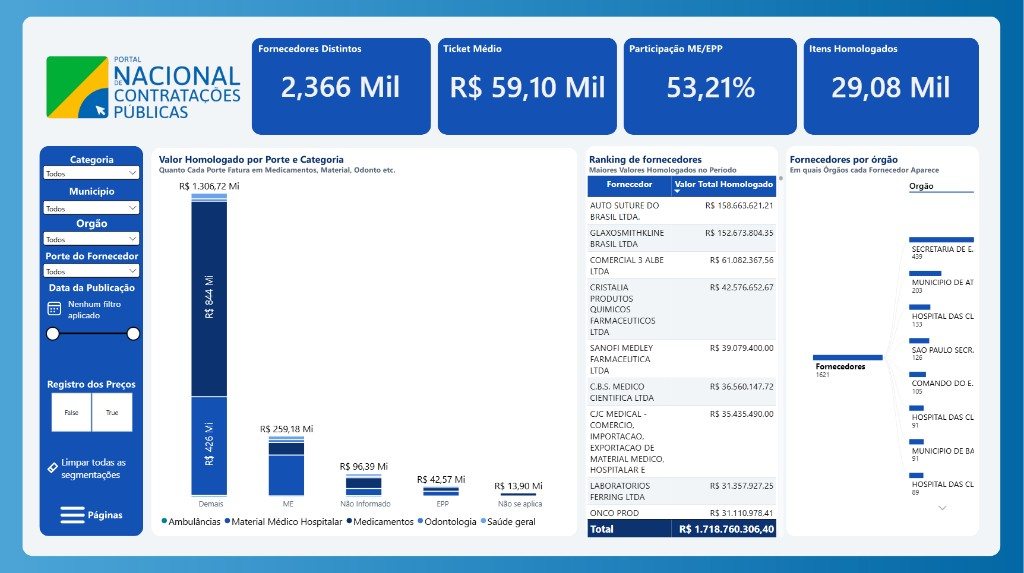

What the dashboard file says about the page in this screenshot:
{"tool":"powerbi","page":{"name":"Mercado e concorrência","canvas":[1920,1080],"ordinal":1},"visuals":[{"type":"tableEx","fields":{"Values":["pncp vw_analitica.fornecedor","Sum(pncp vw_analitica.valor_total_homologado)"]},"box":[1085.1,315.6,398.5,706.9],"z":0},{"type":"columnChart","fields":{"Category":["pncp vw_analitica.porte_fornecedor"],"Series":["pncp vw_analitica.Categoria Label"],"Y":["Medidas.Valor Homologado"]},"box":[287.5,300,798.3,707.7],"z":1000},{"type":"decompositionTreeVisual","fields":{"Analyze":["Medidas.Fornecedores Distintos"],"ExplainBy":["pncp vw_analitica.orgao"]},"box":[1483.6,315.6,357.8,692.4],"z":2000},{"type":"cardVisual","fields":{"Data":["Medidas.Ticket Médio"]},"box":[822.5,70,336.7,180.9],"z":3000},{"type":"cardVisual","fields":{"Data":["Medidas.% ME EPP"]},"box":[1172.4,70,322.2,180.9],"z":4000},{"type":"cardVisual","fields":{"Data":["CountNonNull(pncp vw_analitica.numero_item)"]},"box":[1509.1,75.3,322.2,171.6],"z":5000},{"type":"cardVisual","fields":{"Data":["Count(pncp vw_analitica.fornecedor)"]},"box":[472.7,70,336.7,178.2],"z":6000},{"type":"slicer","fields":{"Values":["pncp vw_analitica.Categoria Label"]},"box":[78.5,305.5,190.5,66.9],"z":7000},{"type":"slicer","fields":{"Values":["pncp vw_analitica.municipio"]},"box":[78.5,370.9,190.5,66.9],"z":8000},{"type":"slicer","fields":{"Values":["pncp vw_analitica.orgao"]},"box":[78.5,429.1,190.5,50.9],"z":9000},{"type":"slicer","fields":{"Values":["pncp vw_analitica.porte_fornecedor"]},"box":[78.5,488.7,190.5,55.3],"z":10000},{"type":"slicer","fields":{"Values":["pncp vw_analitica.data_publicacao"]},"box":[78.5,554.2,190.5,170.2],"z":11000},{"type":"slicer","fields":{"Values":["pncp vw_analitica.registro_precos"]},"box":[78.5,734.5,190.5,75.6],"z":12000},{"type":"actionButton","box":[112.6,942.1,123.2,41.1],"z":13000},{"type":"actionButton","box":[80,834.9,189.1,85.8],"z":15000}]}

Visuals, with their boxes in screenshot pixels (x1, y1, x2, y2), scaled from the page's 1920x1080 canvas onto the 1024x573 screenshot:
tableEx - pncp vw_analitica.fornecedor x Sum(pncp vw_analitica.valor_total_homologado): <bbox>579, 167, 791, 542</bbox>
columnChart - pncp vw_analitica.porte_fornecedor x pncp vw_analitica.Categoria Label: <bbox>153, 159, 579, 535</bbox>
decompositionTreeVisual - Medidas.Fornecedores Distintos x pncp vw_analitica.orgao: <bbox>791, 167, 982, 535</bbox>
cardVisual - Medidas.Ticket Médio: <bbox>439, 37, 618, 133</bbox>
cardVisual - Medidas.% ME EPP: <bbox>625, 37, 797, 133</bbox>
cardVisual - CountNonNull(pncp vw_analitica.numero_item): <bbox>805, 40, 977, 131</bbox>
cardVisual - Count(pncp vw_analitica.fornecedor): <bbox>252, 37, 432, 132</bbox>
slicer - pncp vw_analitica.Categoria Label: <bbox>42, 162, 143, 198</bbox>
slicer - pncp vw_analitica.municipio: <bbox>42, 197, 143, 232</bbox>
slicer - pncp vw_analitica.orgao: <bbox>42, 228, 143, 255</bbox>
slicer - pncp vw_analitica.porte_fornecedor: <bbox>42, 259, 143, 289</bbox>
slicer - pncp vw_analitica.data_publicacao: <bbox>42, 294, 143, 384</bbox>
slicer - pncp vw_analitica.registro_precos: <bbox>42, 390, 143, 430</bbox>
actionButton: <bbox>60, 500, 126, 522</bbox>
actionButton: <bbox>43, 443, 144, 488</bbox>
